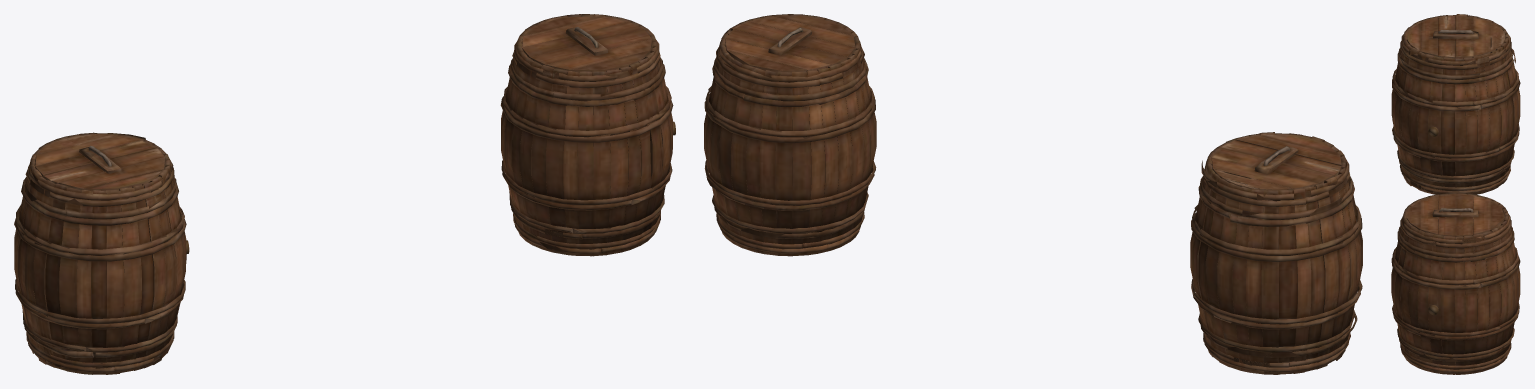
Rendered from barrels-wooden.71cd66ea.glb.
The picture shows the model from 3 angles, left to right: view 1: azimuth 30°, elevation 25°; view 2: azimuth 150°, elevation 25°; view 3: azimuth 270°, elevation 25°; orthographic projection. The views are drawn at different scales.
Visible parts, largest first — view 1: model; view 2: model; view 3: model.
Part boxes in pixels (<box>): model: <box>14,14,675,374</box>; model: <box>704,14,1362,374</box>; model: <box>1391,14,1520,374</box>.
Size of the model in its own units: 3.15 by 0.9199 by 0.7388.
Materials: 2 (2 with a texture image).
